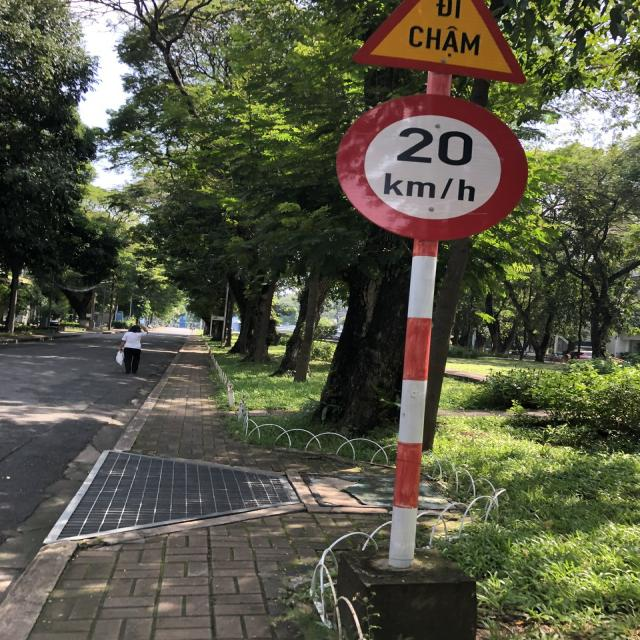Bien bao toc do toi da cho phep: (327, 87, 534, 241)
